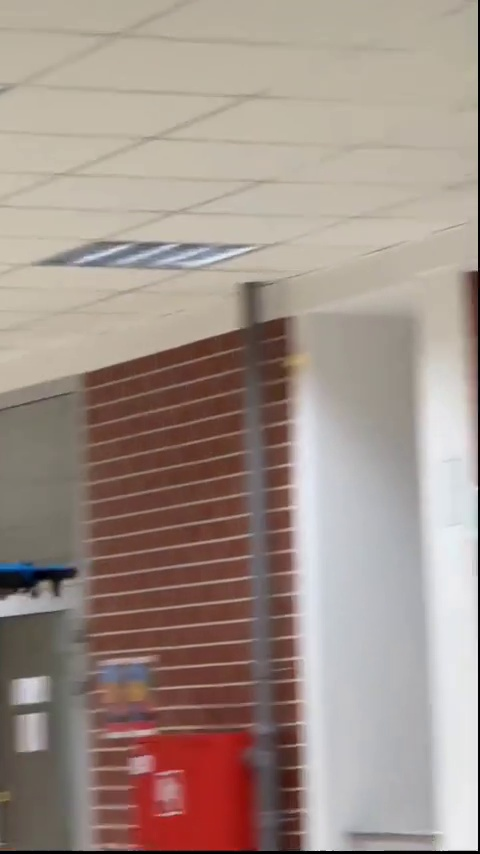drone: (0, 555, 77, 607)
